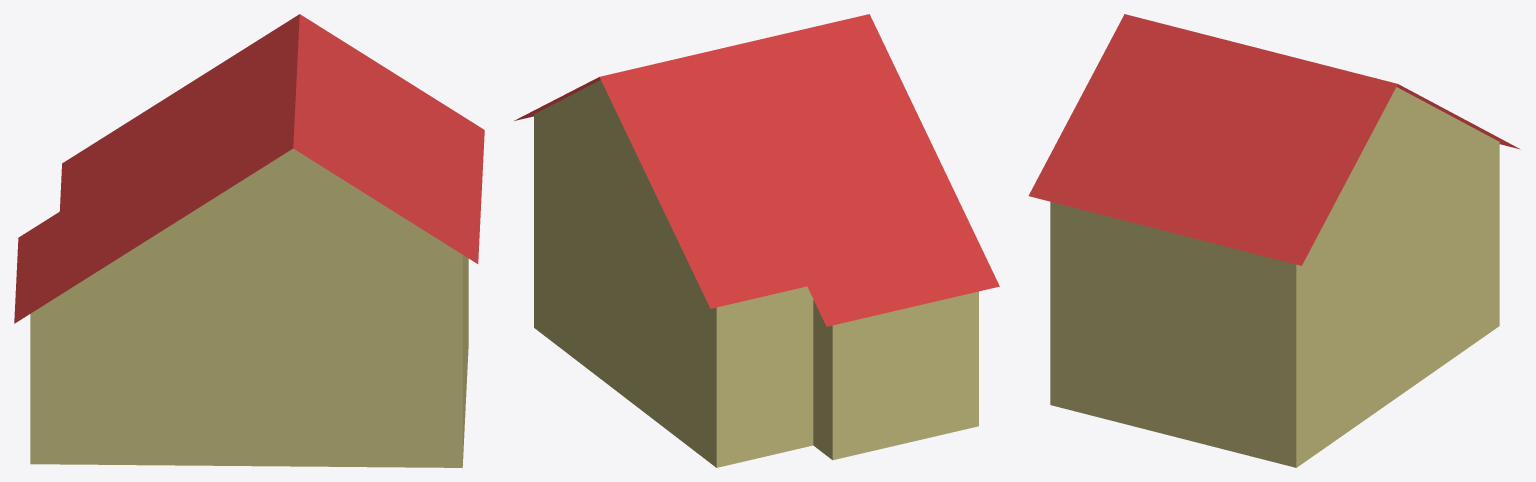
3 renders of one model, left to right at view 1: azimuth 30°, elevation 25°; view 2: azimuth 150°, elevation 25°; view 3: azimuth 270°, elevation 25°, orthographic. The views are drawn at different scales.
Bounding box in the file's own units: 17.72 × 15.49 × 11.3.
